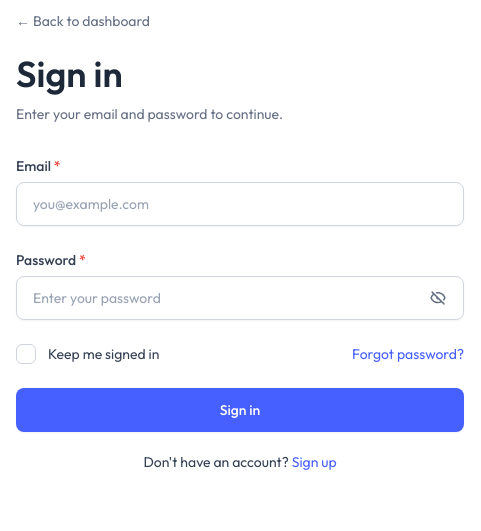
Scenario: SignInForm › shows validation errors for missing fields
Click the button "Sign in" at (240, 410), box 16,388 -> 464,432
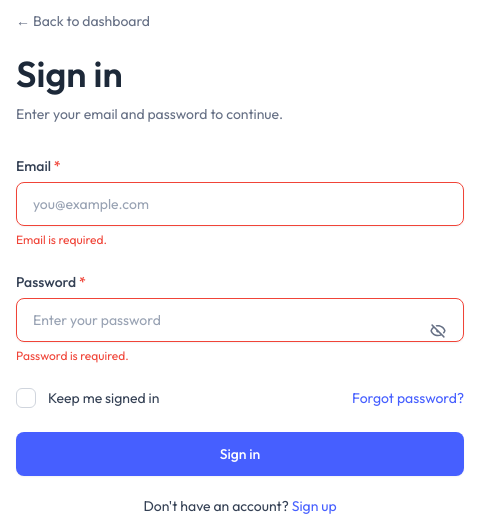
Now the text "Email is required." is shown, box 16,232 -> 107,247
Now the text "Password is required." is shown, box 16,348 -> 129,363
